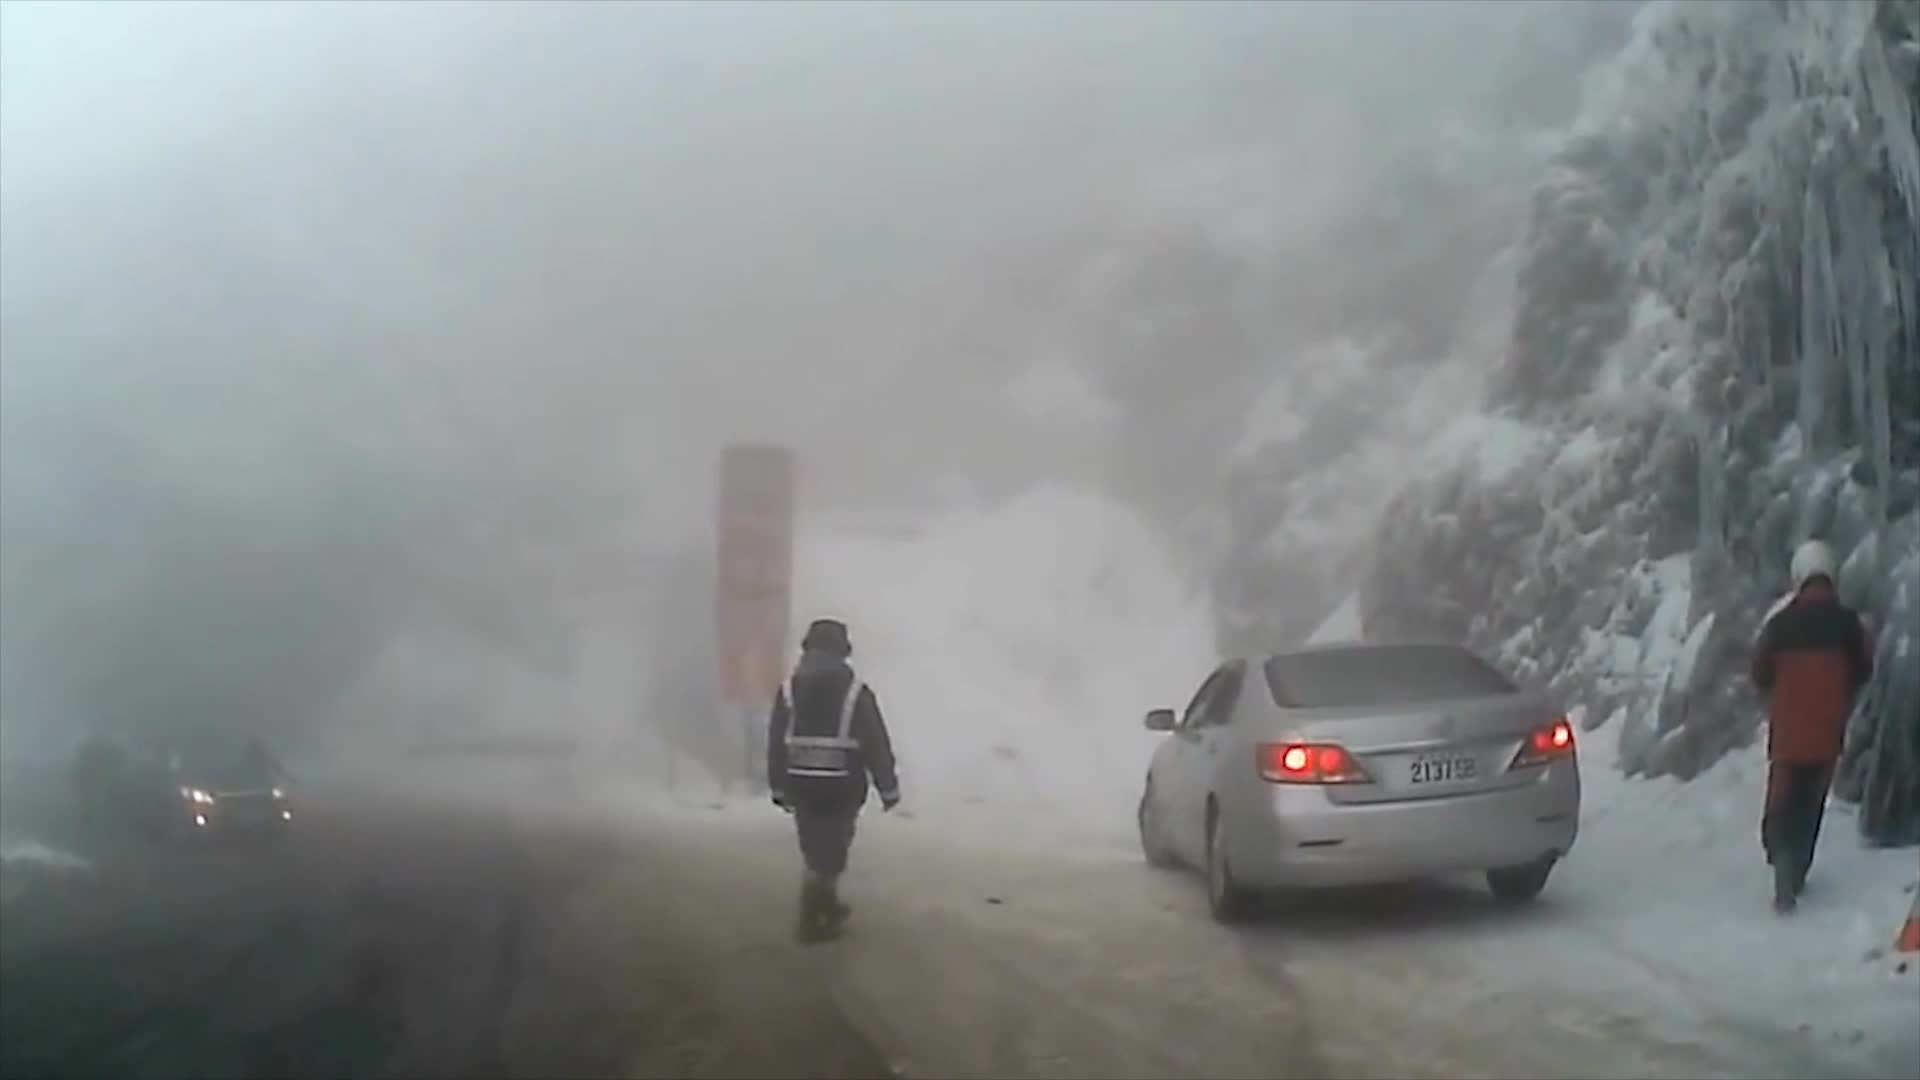pedestrian: (768, 619, 916, 943), (1749, 534, 1869, 915)
vehicle: (1133, 635, 1579, 921)
